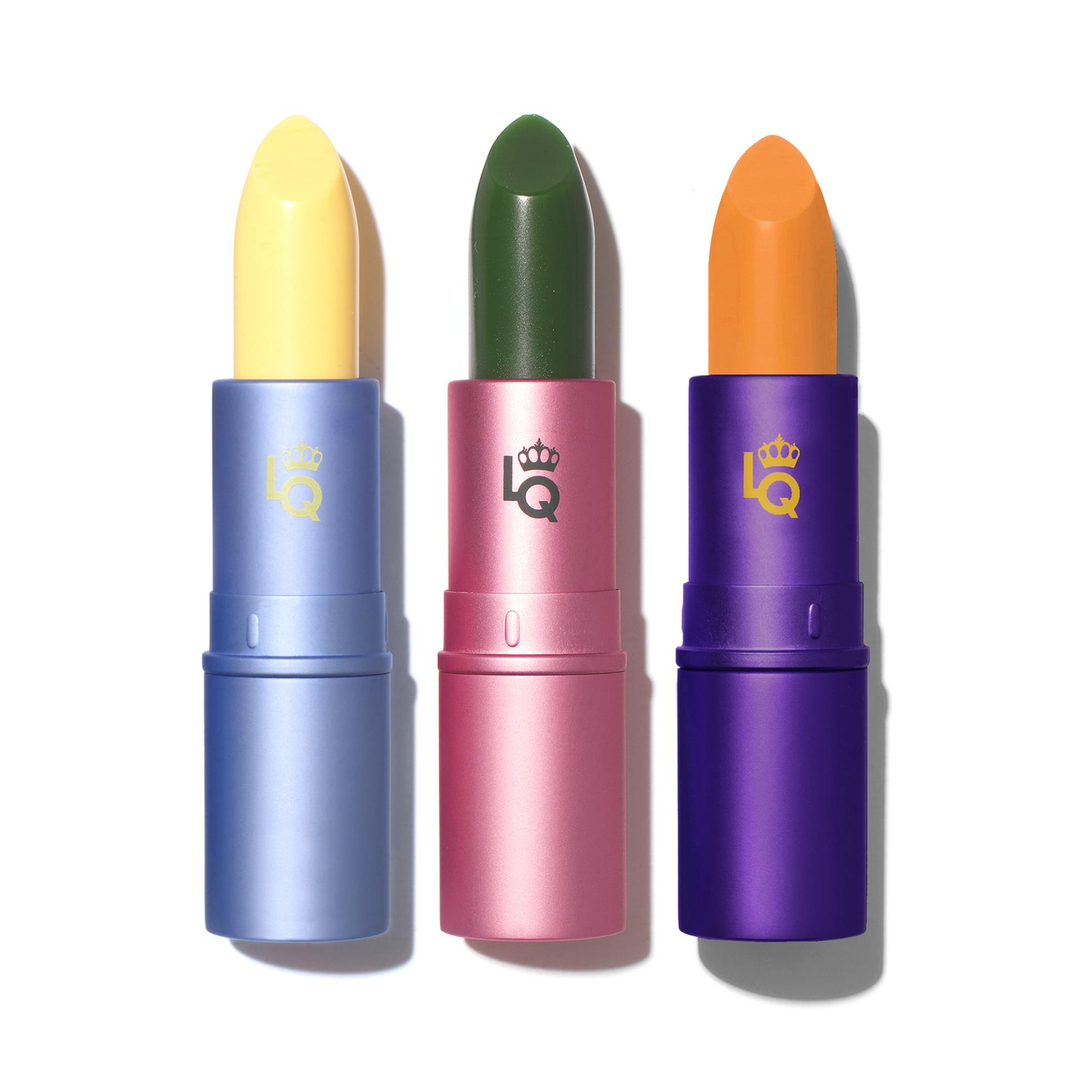lipstick: (397, 98, 662, 940), (207, 112, 387, 941), (687, 129, 866, 943)
